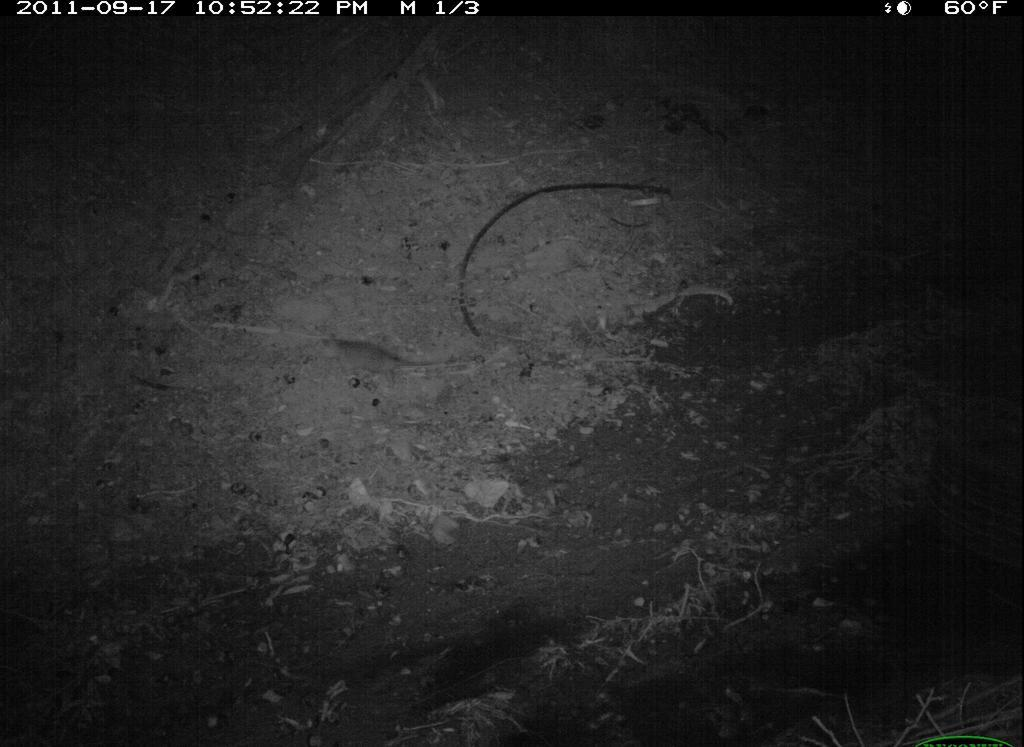opossum: (315, 328, 439, 392)
